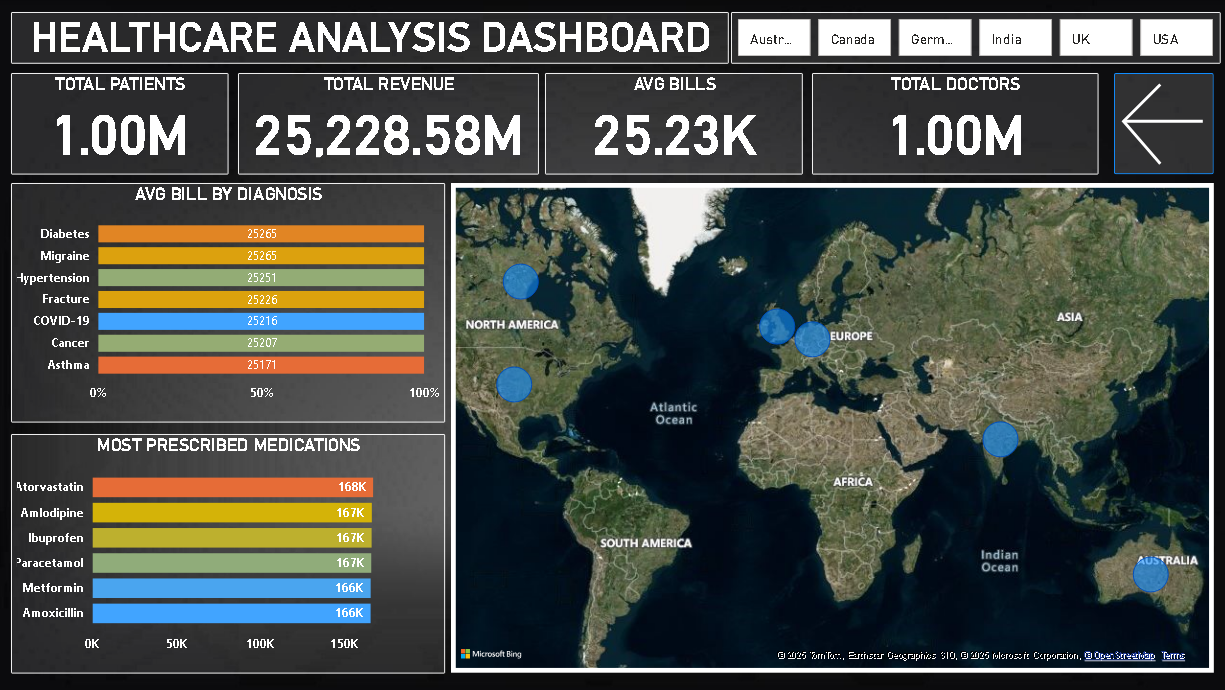

The dashboard page shown, as its layout file describes it:
{"tool":"powerbi","page":{"name":"Duplicate of Page 1","canvas":[1280,720],"ordinal":1},"visuals":[{"type":"textbox","title":"HEALTHCARE ANALYSIS  DASHBOARD","box":[12.2,12.2,748.7,53.6],"z":0},{"type":"card","title":"TOTAL PATIENTS","fields":{"Values":["CountNonNull(public health.patient_id)"]},"box":[12.2,76.6,298.6,105.6],"z":1000},{"type":"card","title":"TOTAL REVENUE","fields":{"Values":["Sum(public health.bill_amount)"]},"box":[320,76.6,313.9,105.6],"z":2000},{"type":"card","title":"AVG BILLS","fields":{"Values":["Avg(public health.bill_amount)"]},"box":[643.1,76.6,312.3,105.6],"z":3000},{"type":"hundredPercentStackedBarChart","title":"AVG BILL BY DIAGNOSIS","fields":{"Category":["public health.diagnosis"],"Y":["Avg(public health.bill_amount)"]},"box":[12.2,191.4,453.2,249.6],"z":4000},{"type":"clusteredBarChart","title":"MOST PRESCRIBED MEDICATIONS","fields":{"Category":["public health.medication"],"Y":["CountNonNull(public health.bill_amount)"]},"box":[12.2,453.2,453.2,249.6],"z":5000},{"type":"card","title":"TOTAL DOCTORS","fields":{"Values":["CountNonNull(public health.doctor_name)"]},"box":[963.1,76.6,304.7,105.6],"z":6000},{"type":"donutChart","title":"PATIENTS BY GENDER","fields":{"Y":["CountNonNull(public health.patient_id)"],"Category":["public health.gender"]},"box":[944.7,191.4,323.1,249.6],"z":7000},{"type":"advancedSlicerVisual","fields":{"Values":["public health.country"]},"box":[764,12.2,511.4,53.6],"z":8000},{"type":"map","fields":{"Category":["public health.country"],"Size":["CountNonNull(public health.patient_id)"]},"box":[471.6,191.4,463.9,249.6],"z":9000},{"type":"lineChart","title":"MOST PRESCRIBED MEDICATIONS","fields":{"Category":["public health.follow_up_date"],"Y":["CountNonNull(public health.outcome)"]},"box":[471.6,453.2,796.2,249.6],"z":10000}]}

Visuals, with their boxes in screenshot pixels (x1, y1, x2, y2), scaled from the page's 1280x720 canvas onto the 1225x690 screenshot:
"HEALTHCARE ANALYSIS  DASHBOARD" textbox: left=12, top=12, right=728, bottom=63
"TOTAL PATIENTS" card: left=12, top=73, right=297, bottom=175
"TOTAL REVENUE" card: left=306, top=73, right=607, bottom=175
"AVG BILLS" card: left=615, top=73, right=914, bottom=175
"AVG BILL BY DIAGNOSIS" hundredPercentStackedBarChart: left=12, top=183, right=445, bottom=423
"MOST PRESCRIBED MEDICATIONS" clusteredBarChart: left=12, top=434, right=445, bottom=674
"TOTAL DOCTORS" card: left=922, top=73, right=1213, bottom=175
"PATIENTS BY GENDER" donutChart: left=904, top=183, right=1213, bottom=423
advancedSlicerVisual - public health.country: left=731, top=12, right=1221, bottom=63
map - public health.country x CountNonNull(public health.patient_id): left=451, top=183, right=895, bottom=423
"MOST PRESCRIBED MEDICATIONS" lineChart: left=451, top=434, right=1213, bottom=674
